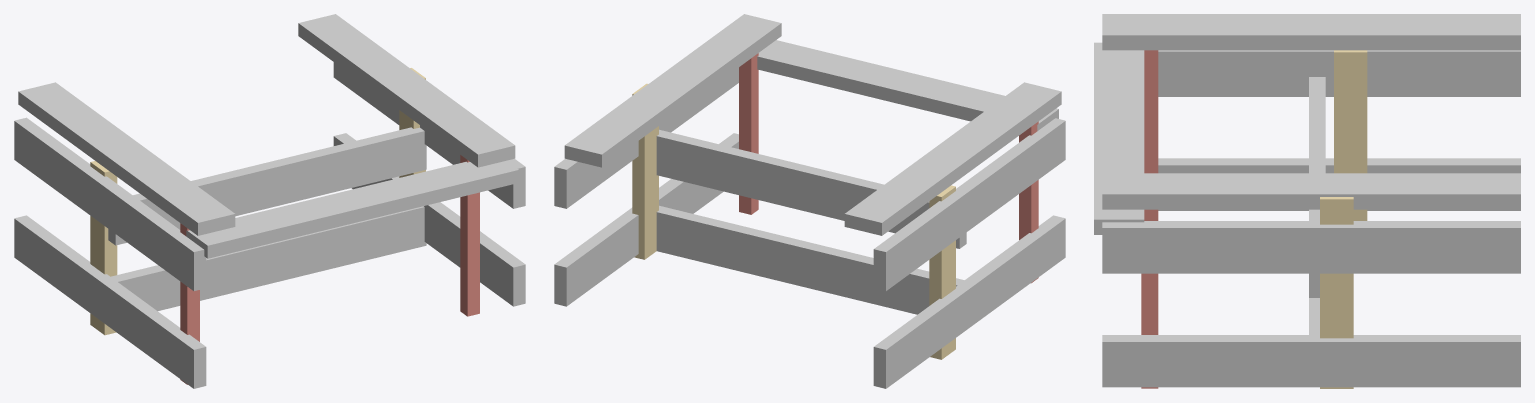
File: tinker.obj
3 renders of one model, left to right at view 1: azimuth 30°, elevation 25°; view 2: azimuth 150°, elevation 25°; view 3: azimuth 270°, elevation 25°, orthographic. The views are drawn at different scales.
Visible parts, largest first — view 1: group_0_16448250, group_0_15308428, group_0_16311991; view 2: group_0_16448250, group_0_16311991, group_0_15308428; view 3: group_0_16448250, group_0_16311991, group_0_15308428.
Boxes of the visible parts, x1,y1,x2,y2 form: group_0_16448250: [14, 14, 525, 388]; group_0_15308428: [180, 155, 479, 384]; group_0_16311991: [90, 68, 425, 335]; group_0_16448250: [554, 14, 1065, 388]; group_0_16311991: [632, 83, 955, 359]; group_0_15308428: [739, 53, 1038, 283]; group_0_16448250: [1094, 14, 1520, 387]; group_0_16311991: [1320, 50, 1367, 388]; group_0_15308428: [1141, 50, 1158, 388].
Bounding box in the file's own units: 32 × 17.2 × 30.6.
